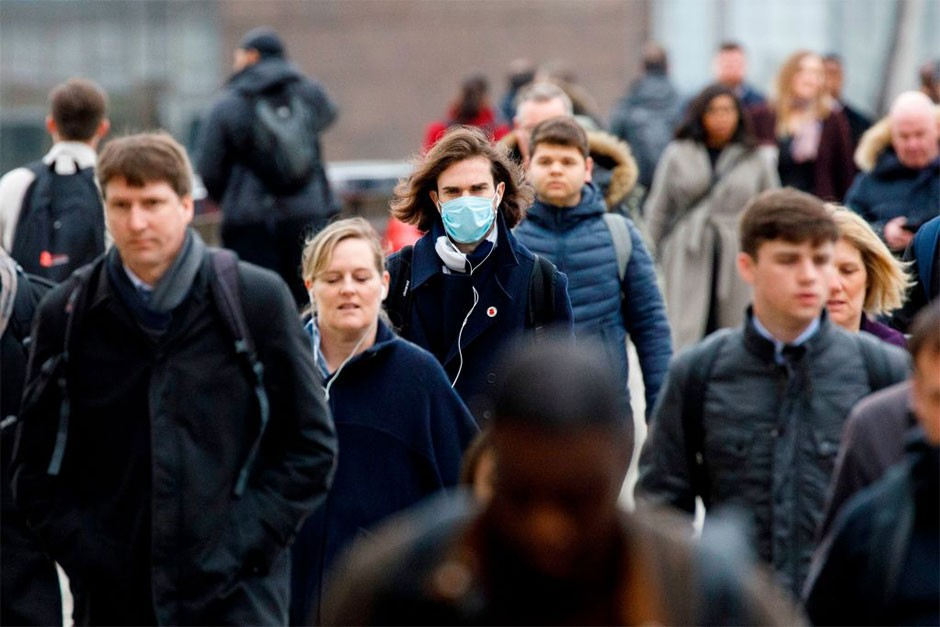with_mask: (438, 167, 494, 241)
without_mask: (110, 183, 177, 262), (764, 240, 828, 320), (314, 249, 377, 329), (531, 144, 585, 200)
